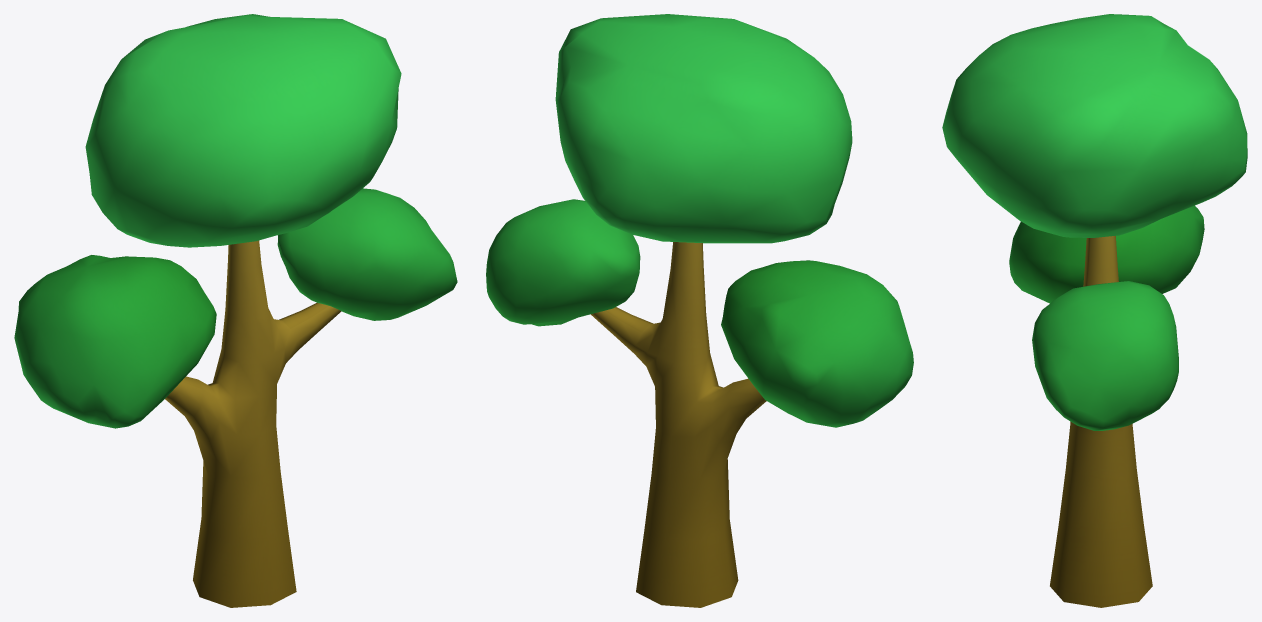
File: tree3.fbx
3 views of the same model, side by side, from view 1: azimuth 30°, elevation 25°; view 2: azimuth 150°, elevation 25°; view 3: azimuth 270°, elevation 25° (orthographic).
Visible parts, largest first — view 1: deciduous tree.001; view 2: deciduous tree.001; view 3: deciduous tree.001.
Part boxes in pixels (left/top/right/bottom): deciduous tree.001: left=14, top=14, right=457, bottom=607; deciduous tree.001: left=486, top=14, right=913, bottom=607; deciduous tree.001: left=942, top=14, right=1247, bottom=607.
Bounding box in the file's own units: 1413 × 1811 × 918.
